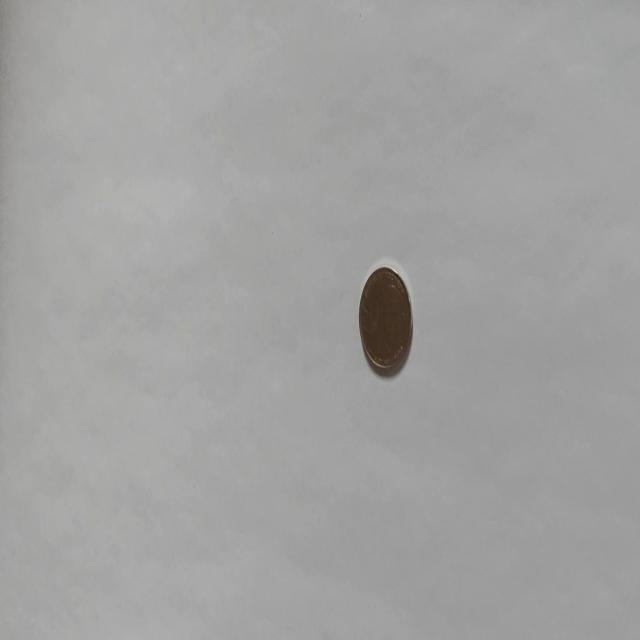seribu rupiah koin: (356, 260, 414, 376)
